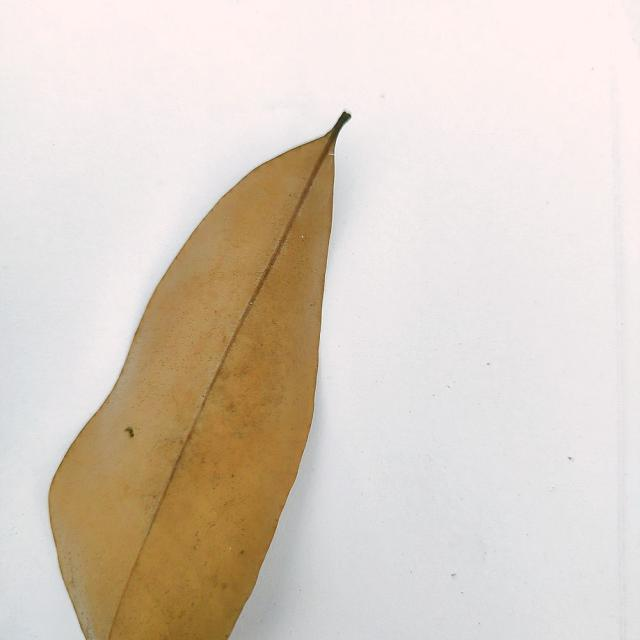Dry_Leaf-Lychee: (47, 117, 348, 639)
